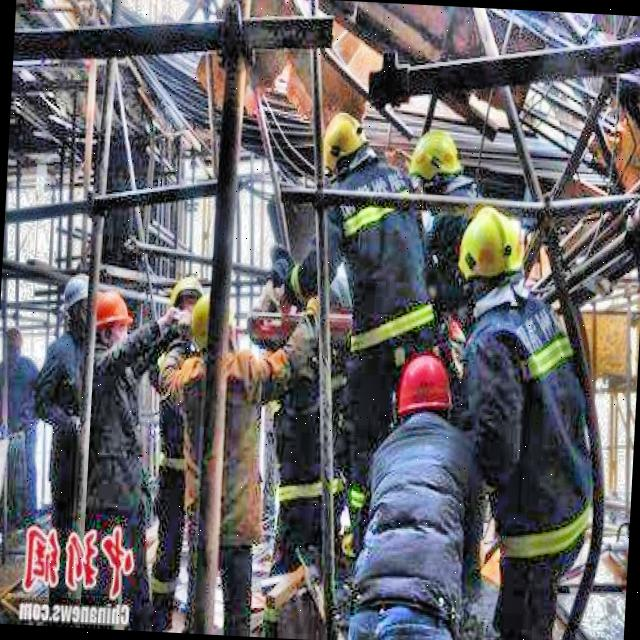helmet: (449, 200, 525, 304), (391, 352, 454, 442), (410, 126, 465, 202), (322, 114, 364, 186), (89, 290, 133, 354), (62, 271, 96, 338), (168, 274, 208, 328)
